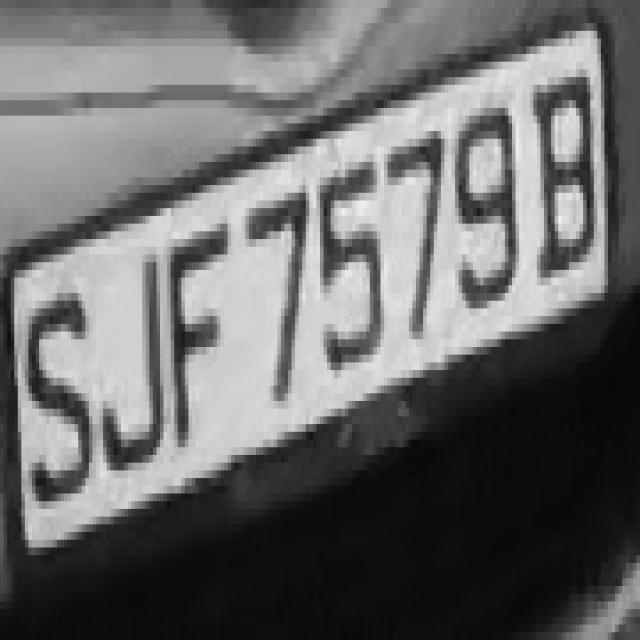5: (316, 139, 388, 393)
7: (231, 170, 313, 432), (380, 116, 448, 370)
9: (448, 92, 519, 324)
B: (530, 46, 597, 316)
F: (164, 185, 242, 463)
J: (92, 216, 164, 493)
S: (14, 239, 92, 555)
